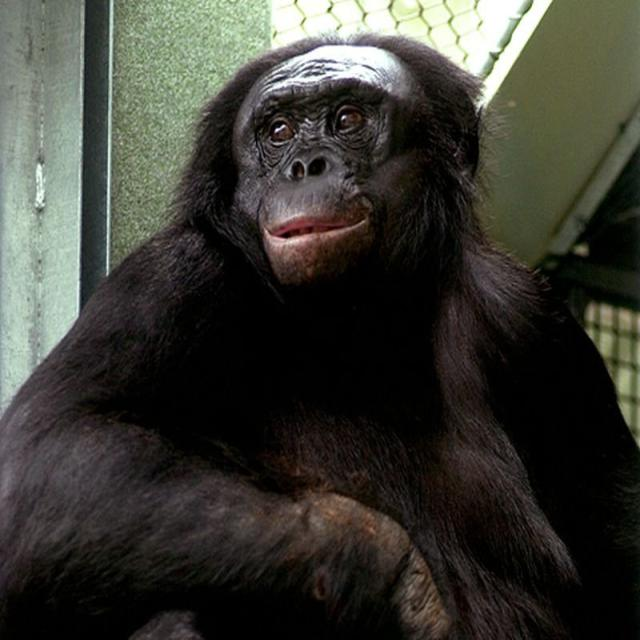Chimpanzee: (1, 17, 640, 639)
